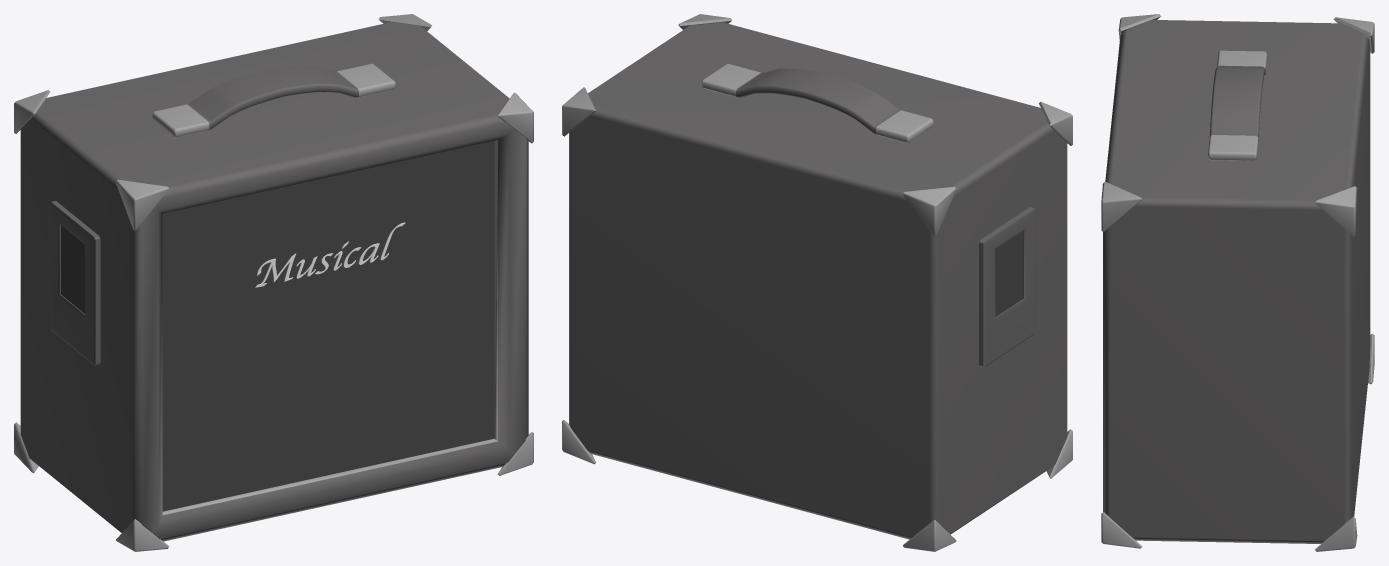
File: speaker2.fbx
3 views of the same model, side by side, from view 1: azimuth 30°, elevation 25°; view 2: azimuth 150°, elevation 25°; view 3: azimuth 270°, elevation 25° (orthographic). The views are drawn at different scales.
Parts seen in each view (by area): view 1: loa2; view 2: loa2; view 3: loa2.
Part boxes in pixels (bbox=[...]): loa2: bbox=[14, 14, 533, 551]; loa2: bbox=[562, 14, 1072, 551]; loa2: bbox=[1101, 14, 1374, 551].
Bounding box in the file's own units: 0.9614 × 0.8821 × 0.5844.
